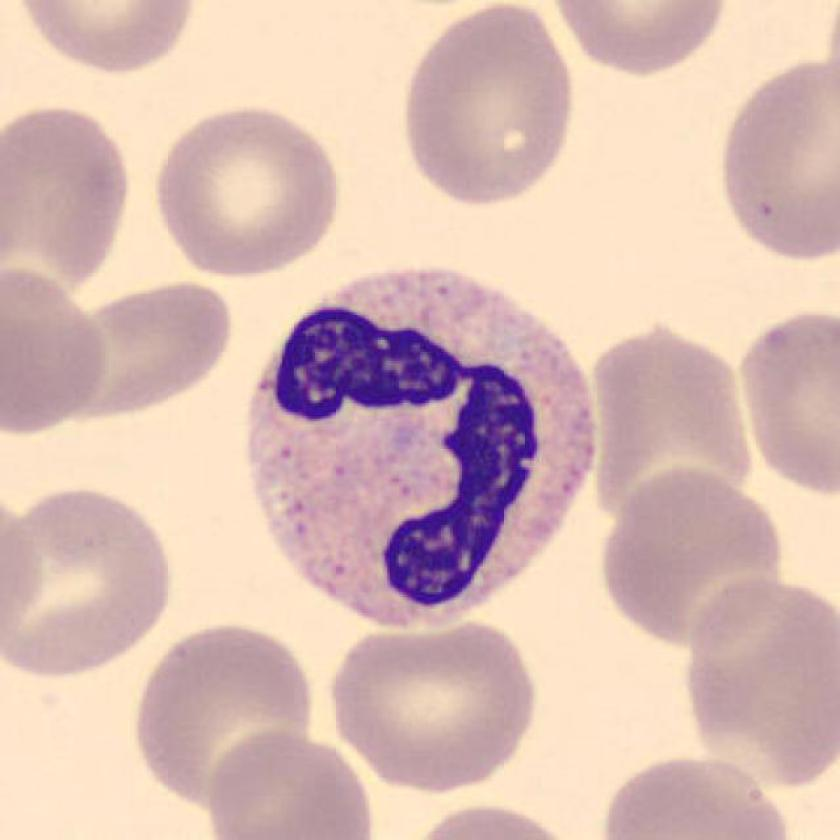neutrophil: (248, 272, 597, 629)
